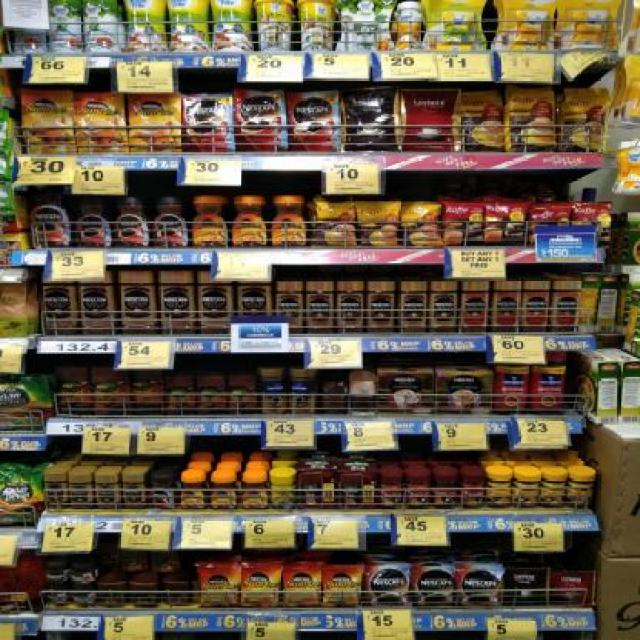Coffee: (235, 91, 288, 152), (22, 92, 73, 154), (75, 94, 127, 154), (290, 90, 339, 152), (132, 95, 180, 152), (184, 94, 231, 150), (30, 188, 72, 246), (238, 272, 272, 336), (120, 271, 154, 334), (161, 271, 194, 335), (80, 270, 112, 334), (43, 272, 75, 336), (200, 271, 232, 334), (272, 196, 308, 246), (234, 196, 268, 247), (193, 197, 229, 245), (76, 194, 109, 246), (114, 197, 148, 246), (153, 195, 185, 247), (367, 567, 408, 605), (415, 569, 456, 606), (323, 568, 362, 606), (461, 569, 501, 606), (399, 280, 426, 334), (275, 281, 303, 333), (242, 568, 280, 606), (368, 281, 395, 334), (306, 282, 334, 333), (284, 568, 321, 606), (200, 569, 238, 606), (337, 281, 363, 333), (433, 280, 458, 332), (148, 476, 175, 509), (43, 472, 66, 508), (242, 476, 267, 509), (210, 476, 235, 509), (181, 476, 205, 510), (122, 474, 144, 508), (70, 474, 92, 508), (95, 476, 117, 510), (45, 584, 70, 607), (72, 586, 96, 609), (43, 562, 68, 584), (70, 566, 94, 586)
